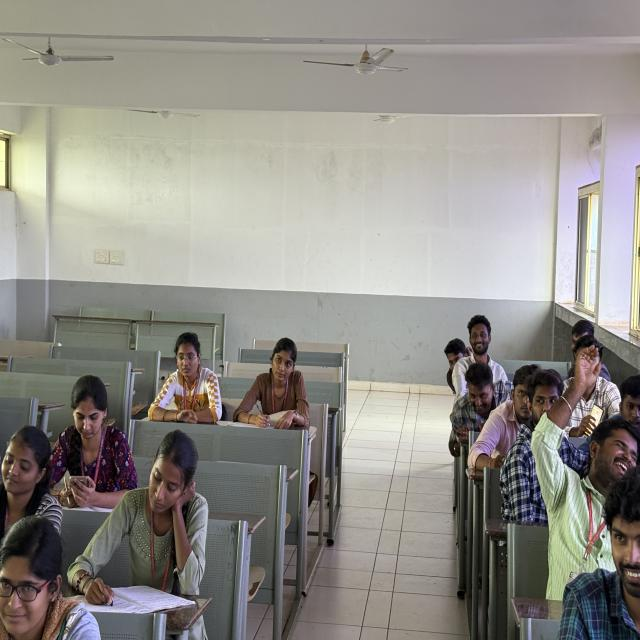Reading: (70, 430, 212, 640)
Using Phone: (46, 376, 139, 506)
Writing: (228, 325, 324, 452)
